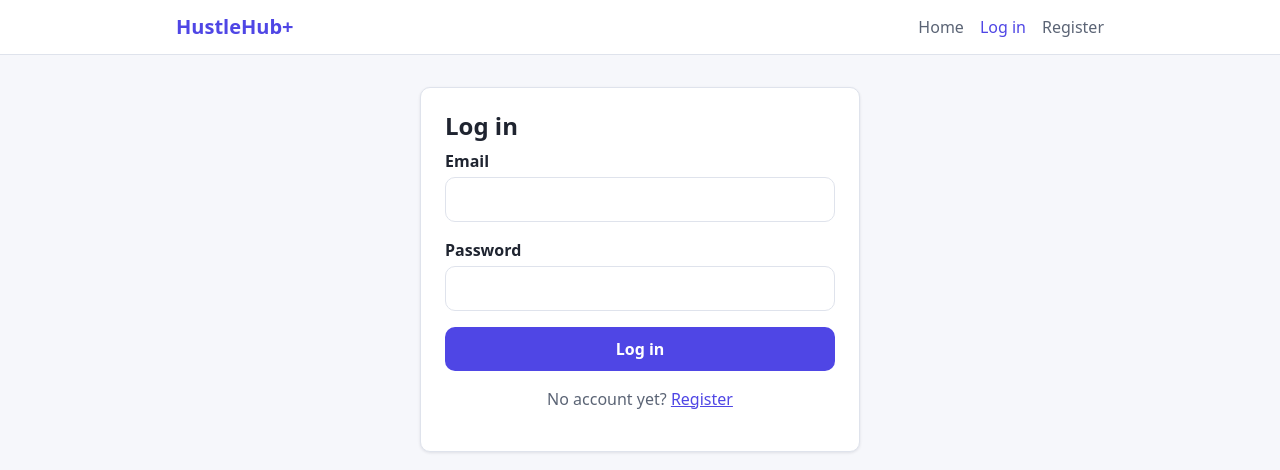
Test: LoginPage › logs the user in, stores the session and shows the dashboard
In the field labelled "Email": (640,199) left=445, top=177, right=835, bottom=222, type "thandi@example.com"
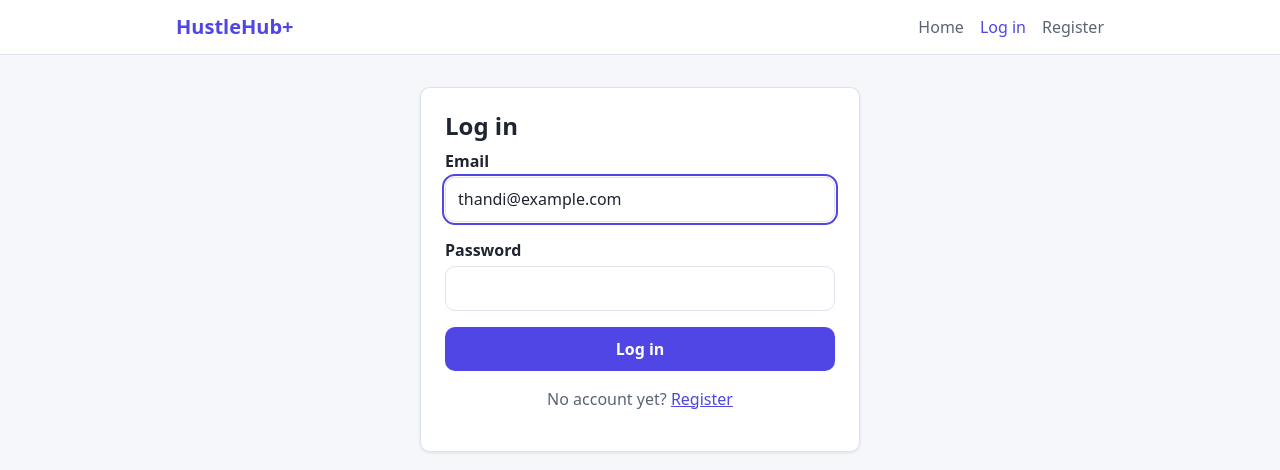
In the password field labelled "Password": (640,289) left=445, top=266, right=835, bottom=311, type "Passw0rd!123"
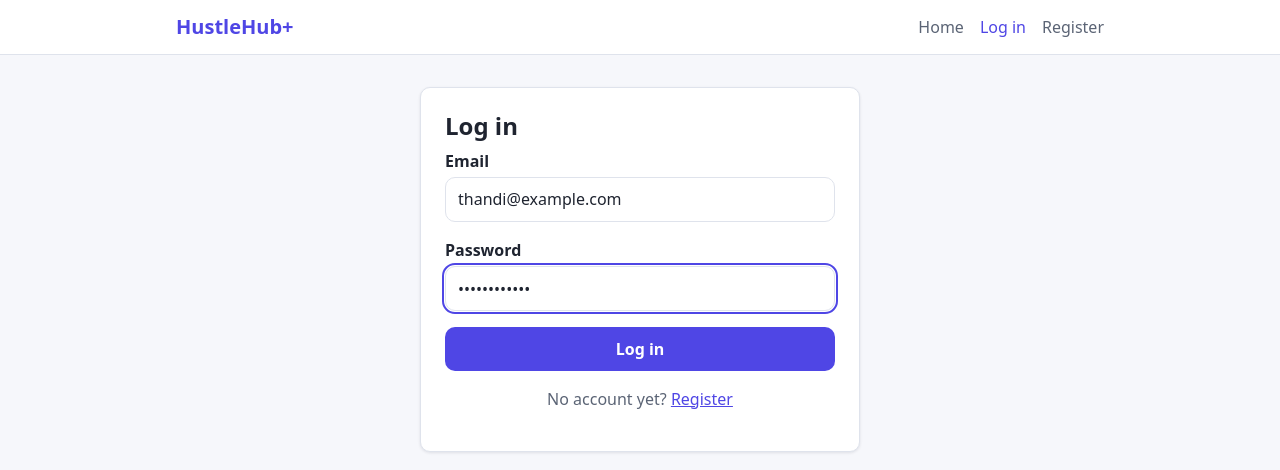
Click the button "Log in": (640,349) left=445, top=327, right=835, bottom=371
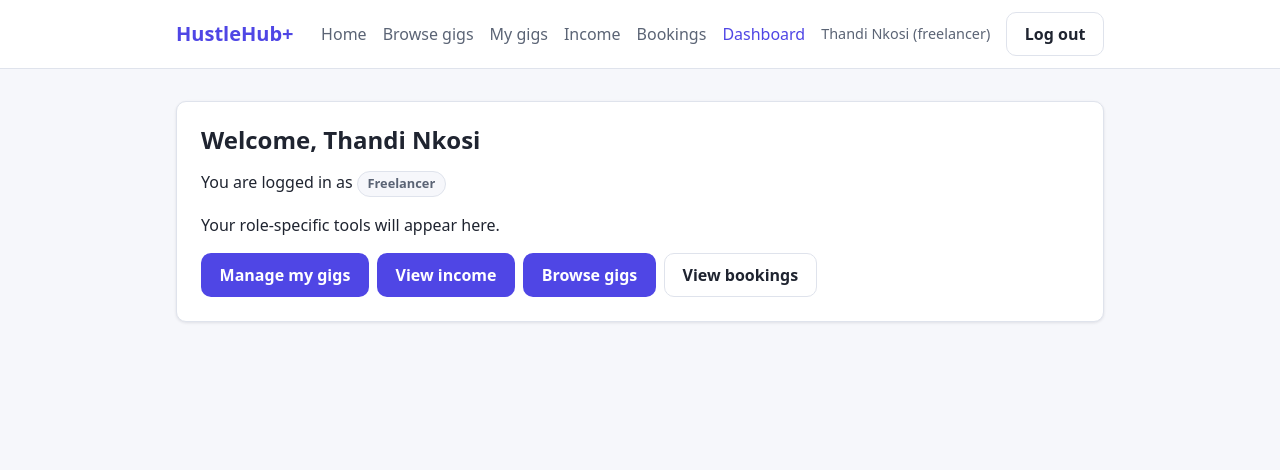
Check: the heading "Welcome, Thandi Nkosi" is shown, box left=201, top=123, right=480, bottom=156
